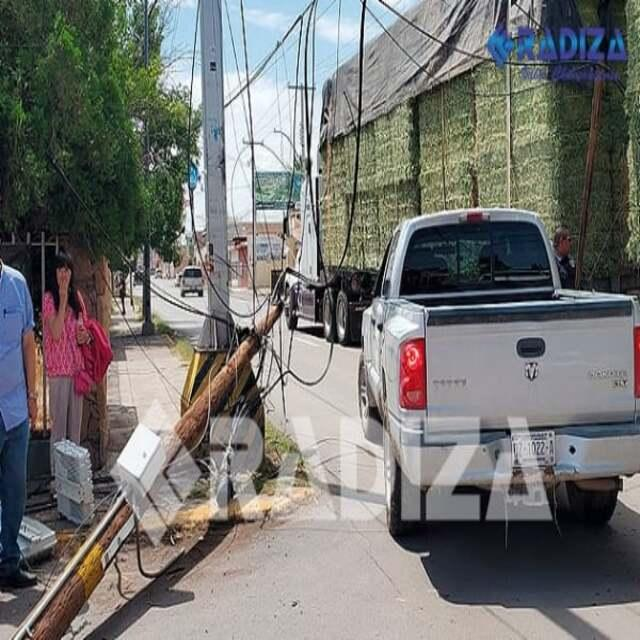Inclined Pole: (11, 289, 290, 640)
